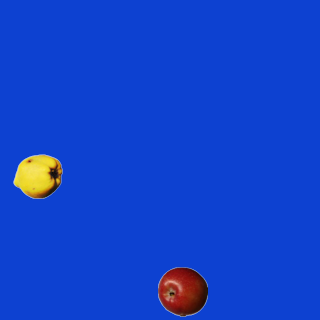Apple Braeburn: (157, 266, 207, 316)
Quince: (12, 151, 62, 201)
